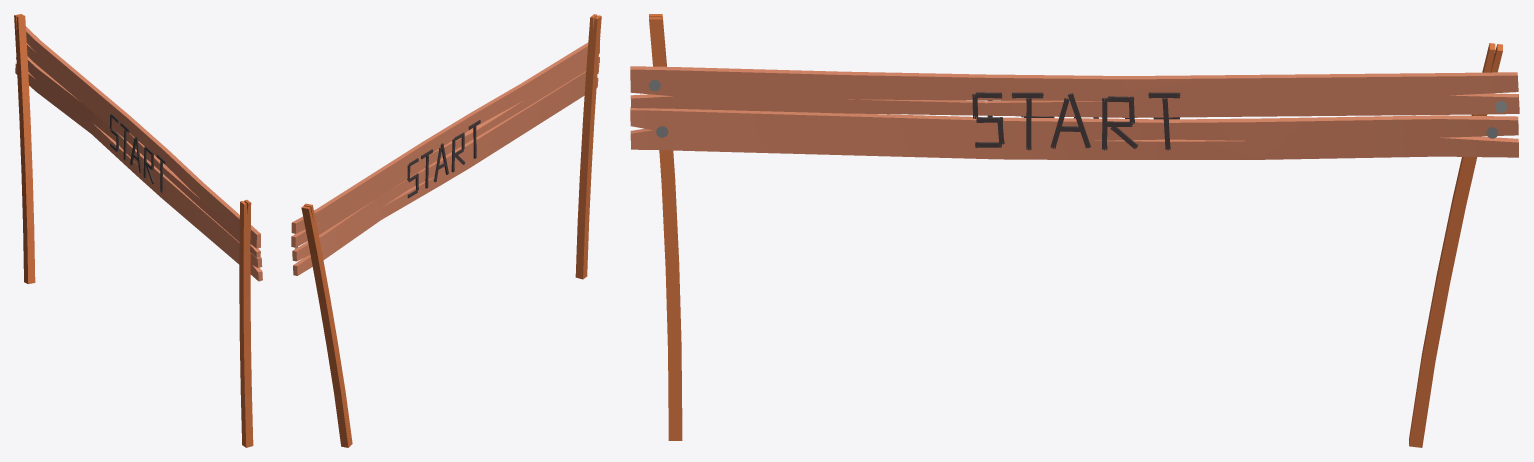
The model's file is Start.fbx.
3 renders of one model, left to right at view 1: azimuth 30°, elevation 25°; view 2: azimuth 150°, elevation 25°; view 3: azimuth 270°, elevation 25°, orthographic. The views are drawn at different scales.
Parts seen in each view (by area): view 1: Start; view 2: Start; view 3: Start.
Boxes of the visible parts, <box> form: Start: <box>14,14,262,447</box>; Start: <box>291,14,601,447</box>; Start: <box>630,14,1519,447</box>.
Bounding box in the file's own units: 227 × 1286 × 2477.
